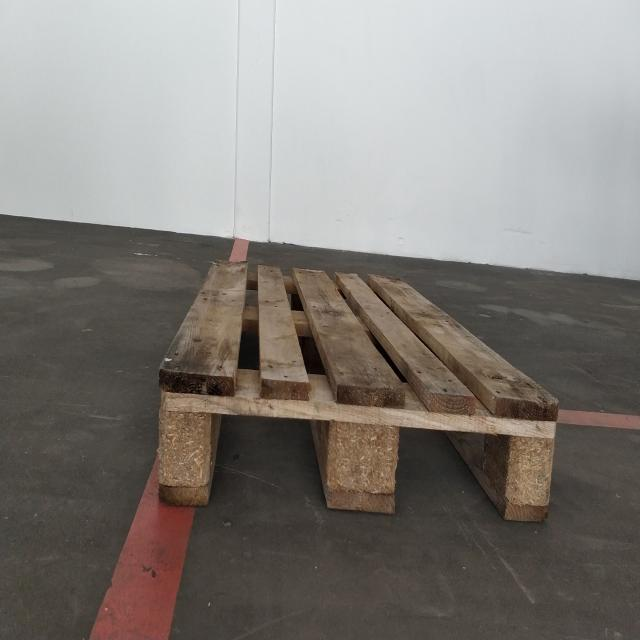block: (326, 385, 401, 522), (157, 364, 212, 510), (504, 397, 561, 526)
front: (158, 361, 560, 532)
